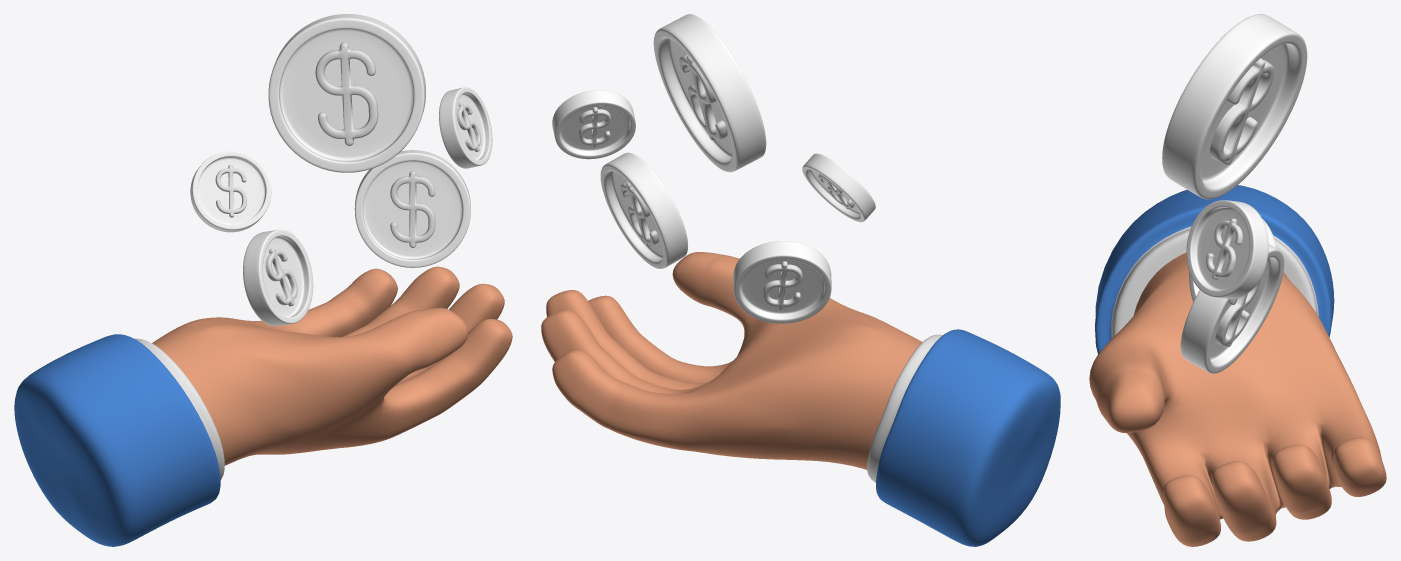
Rendered from crowdfunding-3d-animated-icon-1523909572870.glb.
The picture shows the model from 3 angles, left to right: view 1: azimuth 30°, elevation 25°; view 2: azimuth 150°, elevation 25°; view 3: azimuth 270°, elevation 25°; orthographic projection. The views are drawn at different scales.
Parts seen in each view (by area): view 1: Cube.335, Cube.064, Cylinder.014, Cylinder.015, Cylinder.013, Cylinder.001, Cylinder.002; view 2: Cube.335, Cube.064, Cylinder.014, Cylinder.013, Cylinder.015, Cylinder.002, Cylinder.001; view 3: Cube.335, Cylinder.014, Cube.064, Cylinder.002, Cylinder.015.
Part boxes in pixels (box(x1,y1,x2,y2)): Cube.335: box(152, 266, 512, 465); Cube.064: box(14, 334, 224, 546); Cylinder.014: box(268, 14, 425, 172); Cylinder.015: box(354, 150, 470, 267); Cylinder.013: box(243, 229, 313, 325); Cylinder.001: box(190, 151, 271, 232); Cylinder.002: box(439, 87, 492, 168); Cube.335: box(541, 252, 921, 469); Cube.064: box(867, 329, 1060, 546); Cylinder.014: box(653, 14, 766, 172); Cylinder.013: box(733, 241, 831, 323); Cylinder.015: box(600, 152, 688, 268); Cylinder.002: box(552, 90, 635, 159); Cylinder.001: box(802, 153, 875, 222); Cube.335: box(1089, 253, 1386, 546); Cylinder.014: box(1162, 14, 1307, 199); Cube.064: box(1095, 185, 1334, 354); Cylinder.002: box(1186, 200, 1268, 298); Cylinder.015: box(1180, 244, 1284, 373).
Bounding box in the file's own units: 4.26 × 3.89 × 1.94.
